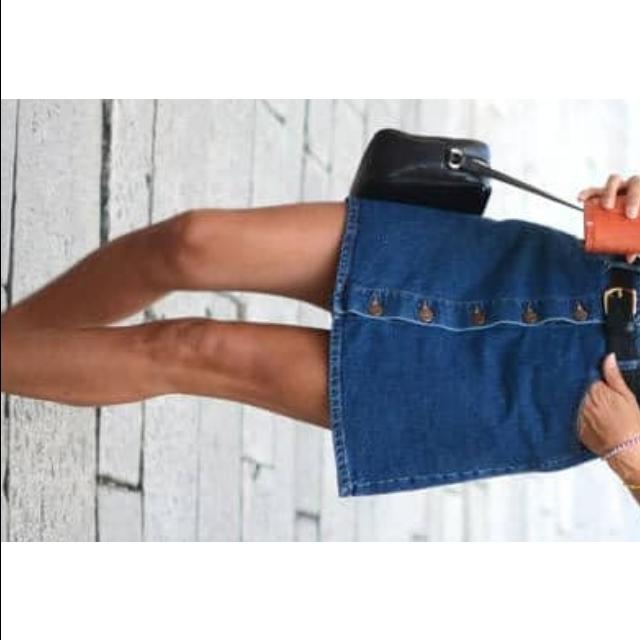denim: (323, 208, 627, 508)
